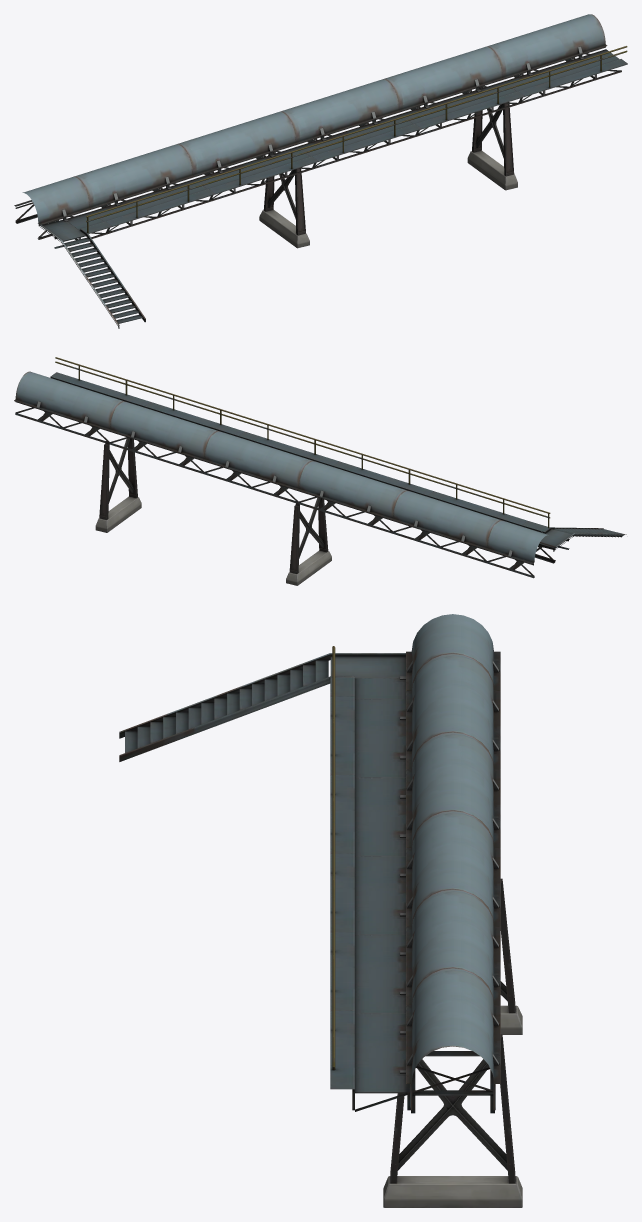
3 views of the same model, one above another, from view 1: azimuth 30°, elevation 25°; view 2: azimuth 150°, elevation 25°; view 3: azimuth 270°, elevation 25° (orthographic). The views are drawn at different scales.
Visible parts, largest first — view 1: body0_model0_lod0_mesh0, body0_model0_lod0_mesh1; view 2: body0_model0_lod0_mesh0, body0_model0_lod0_mesh1; view 3: body0_model0_lod0_mesh0, body0_model0_lod0_mesh1.
Part boxes in pixels (x1,y1,x2,y2): body0_model0_lod0_mesh0: (14, 14, 627, 328); body0_model0_lod0_mesh1: (259, 86, 517, 248); body0_model0_lod0_mesh0: (14, 357, 626, 578); body0_model0_lod0_mesh1: (95, 438, 331, 585); body0_model0_lod0_mesh0: (119, 614, 500, 1113); body0_model0_lod0_mesh1: (383, 878, 522, 1207).
Size of the model in its own units: 1408 by 336 by 474.
Materials: 2 (2 with a texture image).
